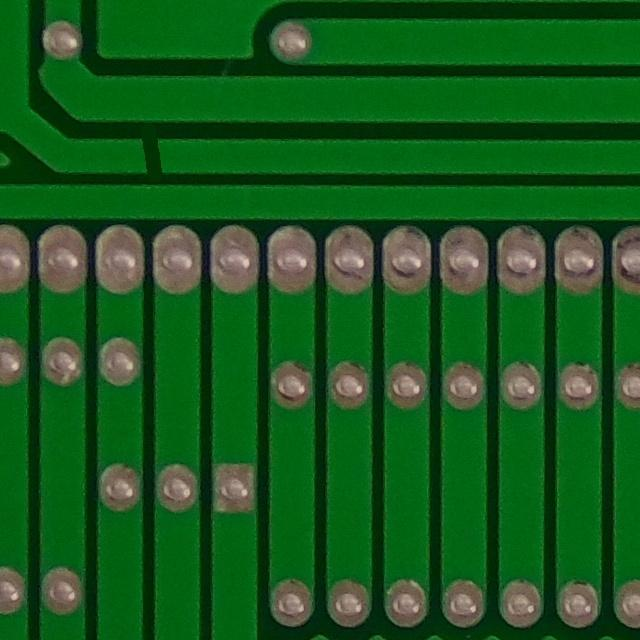open_circuit: (119, 128, 182, 182)
